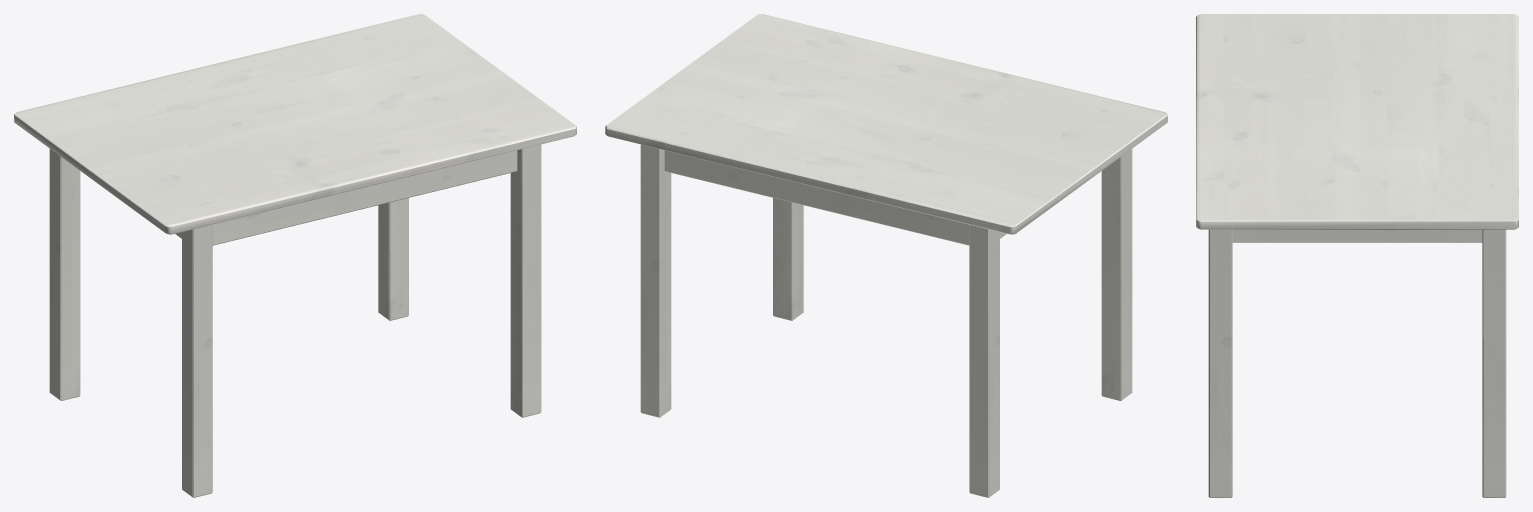
File: 08 - SUNDVIK Children_s table - white 76x50 cm.glb
The picture shows the model from 3 angles, left to right: view 1: azimuth 30°, elevation 25°; view 2: azimuth 150°, elevation 25°; view 3: azimuth 270°, elevation 25°; orthographic projection. The views are drawn at different scales.
Visible parts, largest first — view 1: Mesh_0; view 2: Mesh_0; view 3: Mesh_0.
Boxes of the visible parts, x1=… form: Mesh_0: x1=14, y1=14, x2=576, y2=497; Mesh_0: x1=605, y1=14, x2=1167, y2=497; Mesh_0: x1=1196, y1=14, x2=1518, y2=497.
Size of the model in its own units: 0.76 by 0.501 by 0.5.
Materials: 1 (1 with a texture image).
